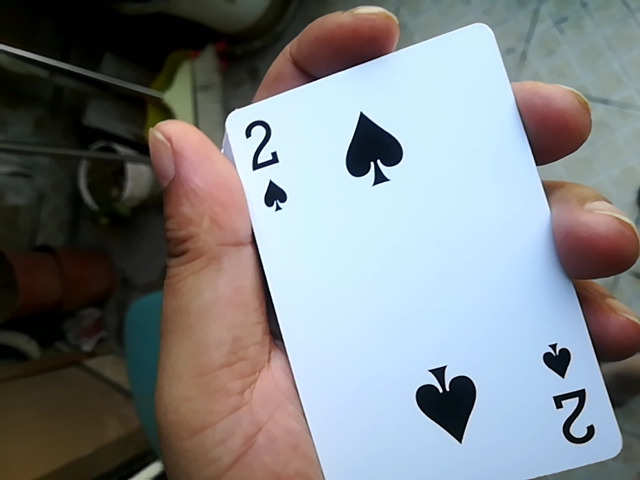ht 2: (214, 26, 610, 476)
